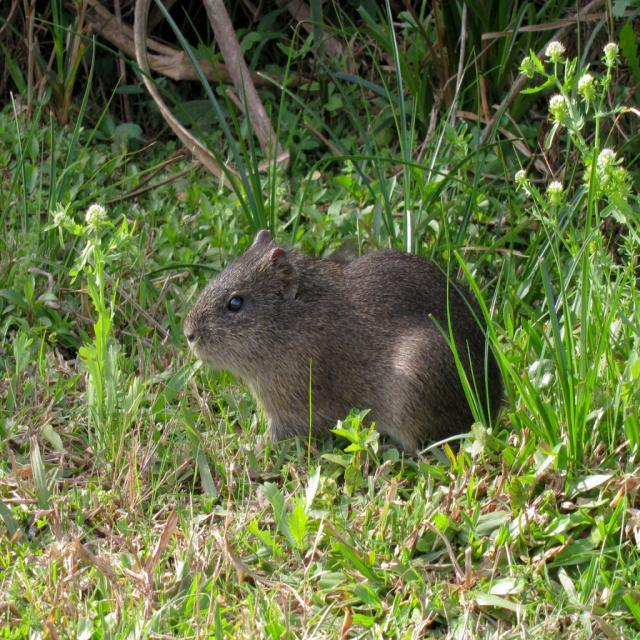rat: (180, 223, 508, 467)
